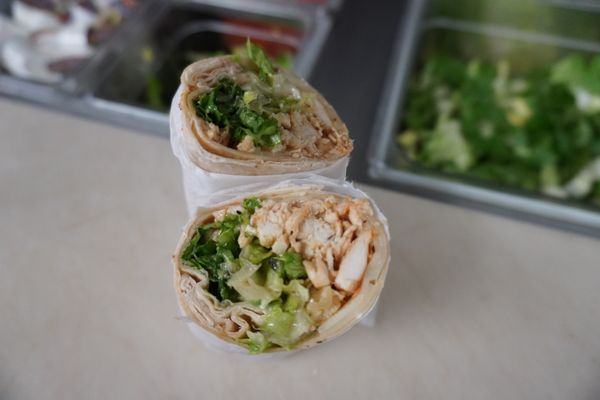sushi: (172, 179, 391, 355), (169, 38, 354, 214)
